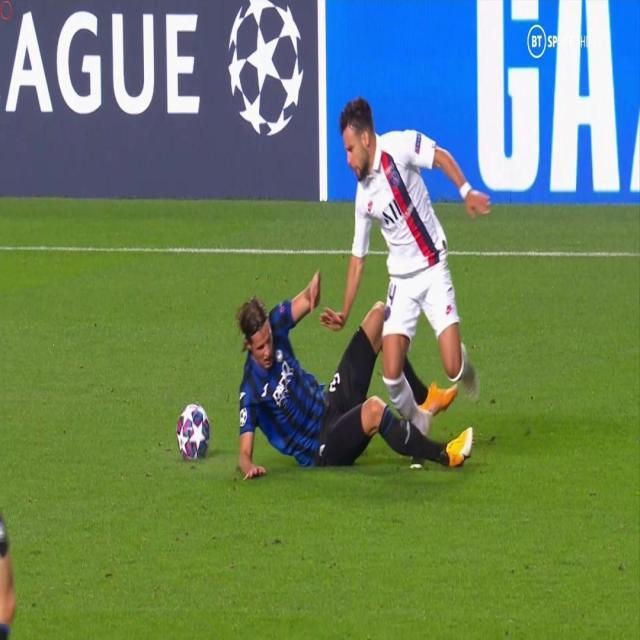ball: (172, 394, 216, 466)
player: (317, 76, 494, 461), (213, 266, 440, 487)
